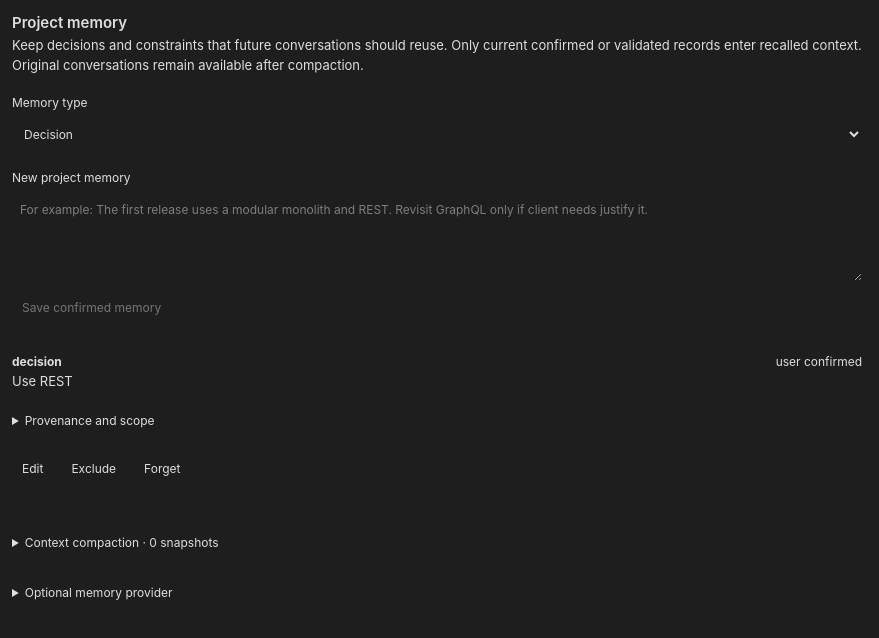
it: shows the retained remote-copy warning after forgetting local memory
Step 1. Click the button "Forget" → click(162, 469), box [134,454,190,484]
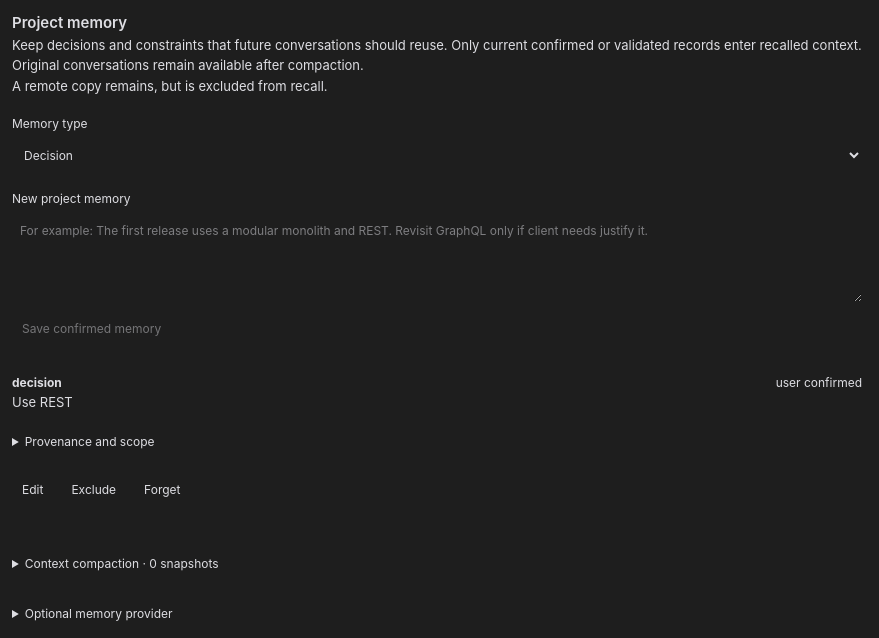
Expected: the message shows "A remote copy remains", [12,78,328,94]
